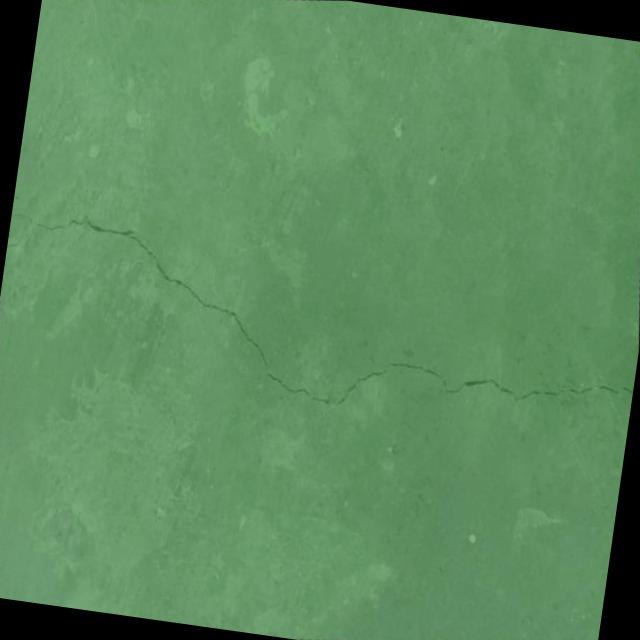crack: (0, 134, 640, 501), (6, 231, 32, 254)
